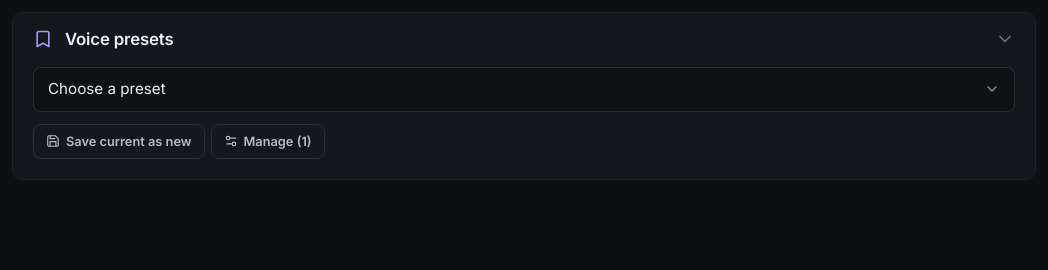
PresetsPanel › saves the current setup under a new name
Click the button "Save current as new" at (119, 141), box [33, 124, 204, 159]
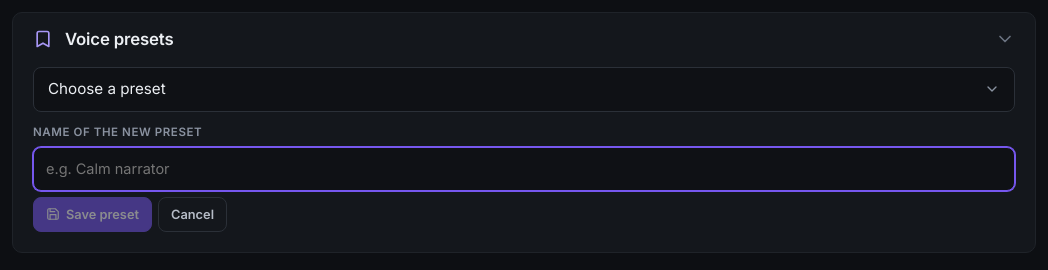
Check: the button "Save preset" is disabled, box [33, 197, 152, 232]
Type "Deep voice" into the field labelled "Name of the new preset" at (524, 169), box [33, 147, 1015, 191]
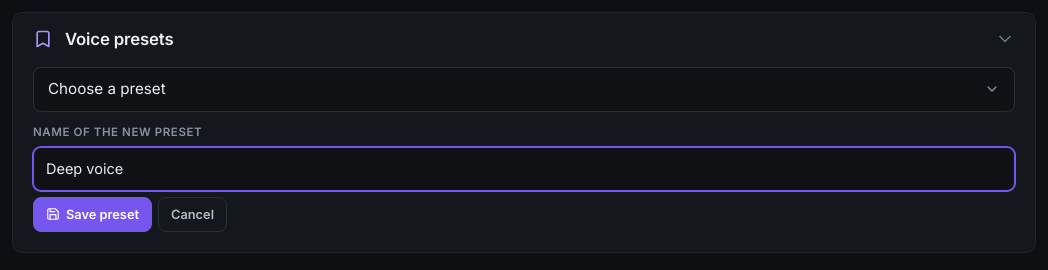
Click the button "Save preset" at (92, 214), box [33, 197, 152, 232]
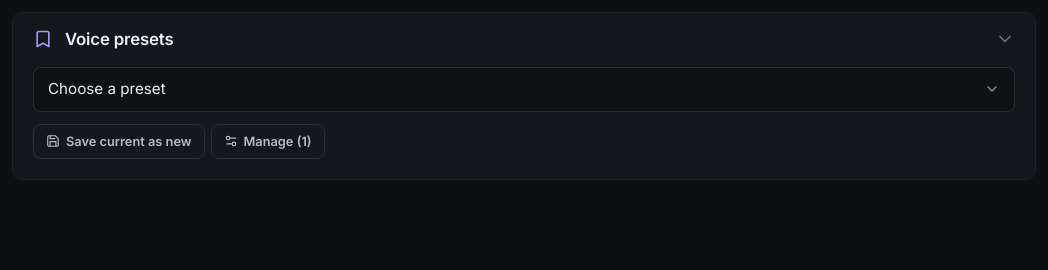
Check: the label labelled "Name of the new preset" is gone
